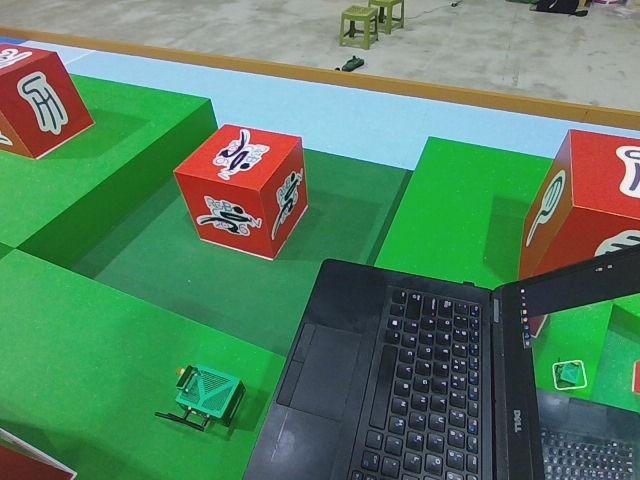R1: (173, 125, 309, 262)
R2 Fake: (523, 130, 640, 312), (0, 45, 96, 162)
